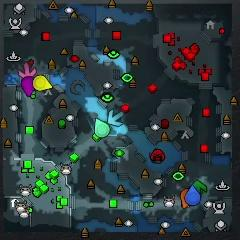p1: (185, 185, 201, 206)
p2: (95, 118, 110, 138)
p3: (21, 76, 34, 96)
p4: (33, 76, 52, 90)
p5: (180, 189, 190, 209)
x1: (18, 63, 36, 78)
x3: (108, 110, 123, 126)
x4: (192, 180, 207, 193)
